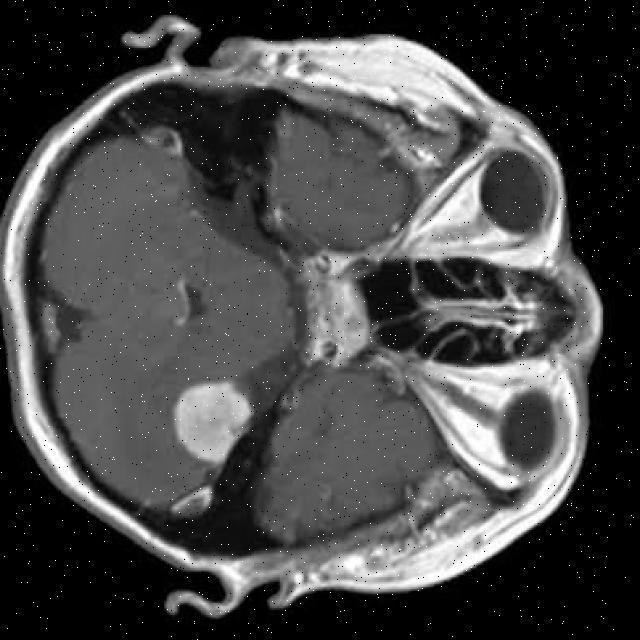Meningioma: (175, 382, 251, 464)
